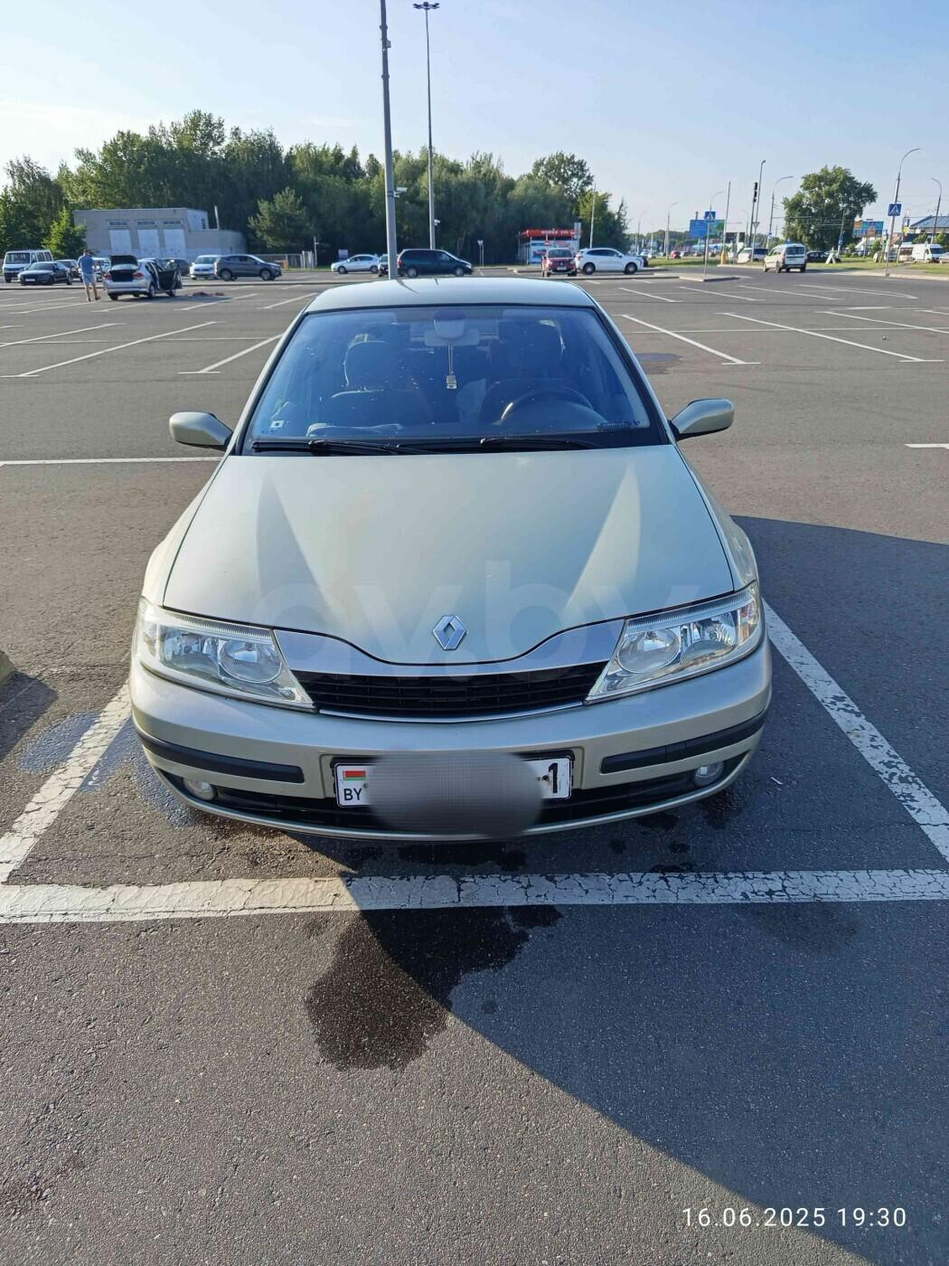Laguna_2001-2005: (131, 279, 771, 838)
